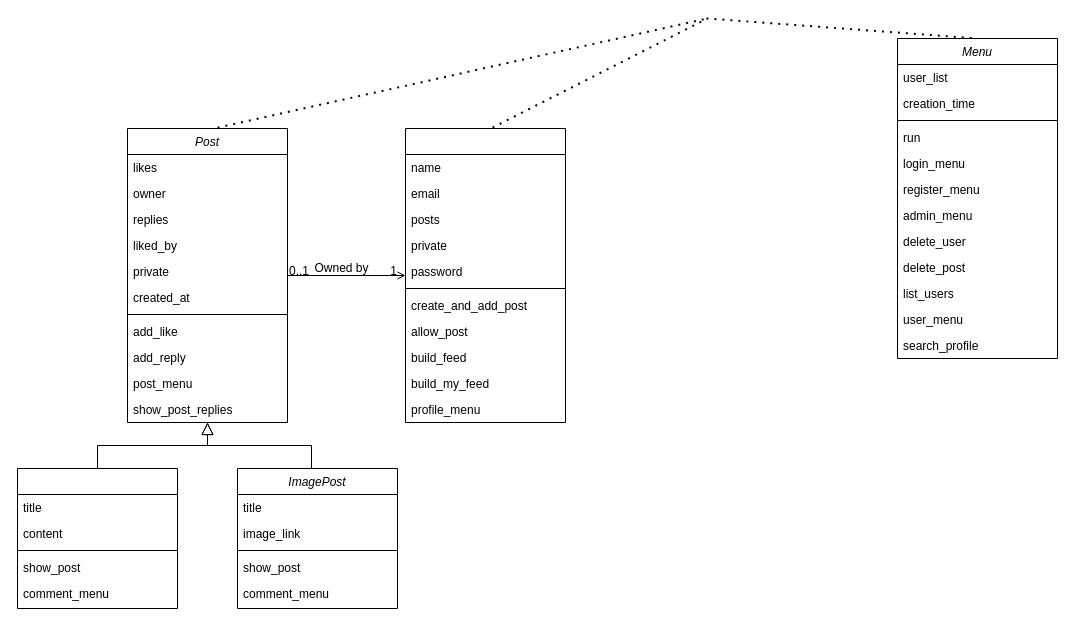
The diagram is 1075 pixels wide and 626 high, and some of its shapes have lost their labels. The box of each missing label's shape, as (x1, y1, x2, y2) in pixels:
TextPost: (16, 468, 178, 608)
User: (404, 128, 566, 422)
